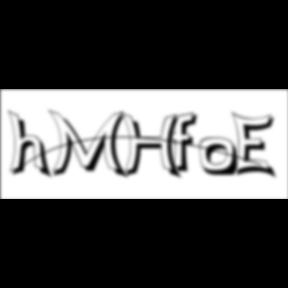E: (232, 110, 280, 182)
H: (121, 112, 187, 182)
M: (48, 108, 132, 181)
f: (171, 111, 204, 175)
h: (8, 108, 55, 182)
o: (199, 137, 241, 179)
